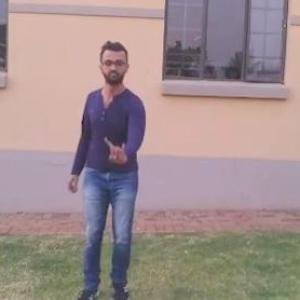takeoff-hand: (101, 130, 133, 168)
